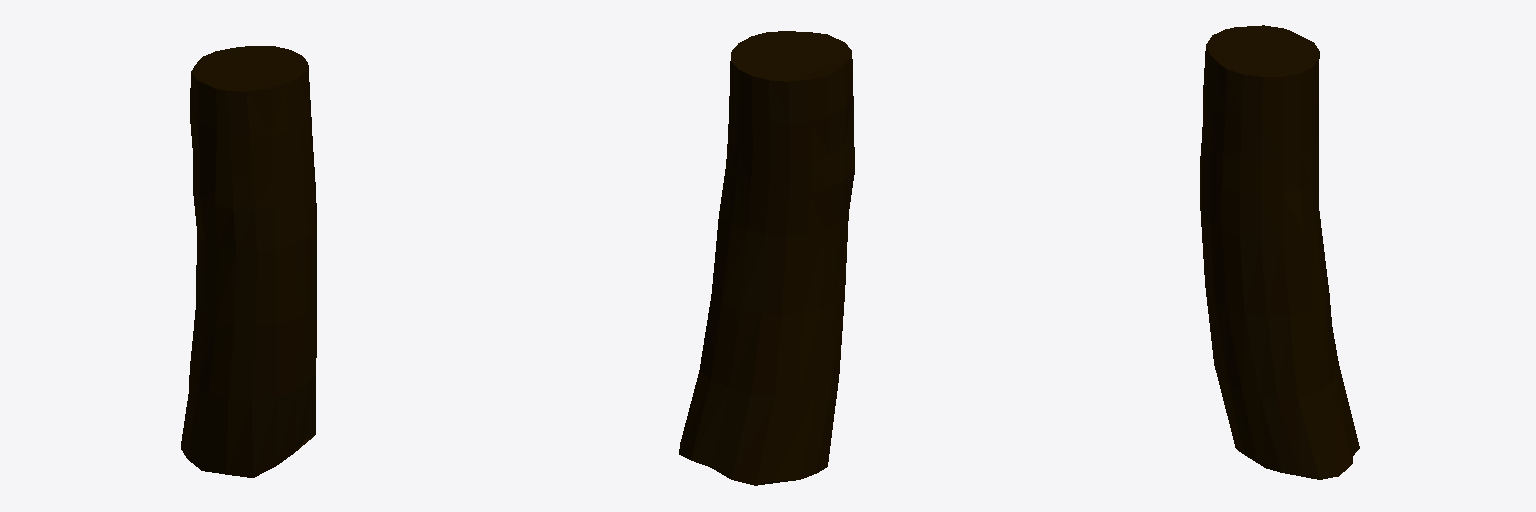
Rendered from log.obj.
3 views of the same model, side by side, from view 1: azimuth 30°, elevation 25°; view 2: azimuth 150°, elevation 25°; view 3: azimuth 270°, elevation 25° (orthographic).
Visible parts, largest first — view 1: transform1; view 2: transform1; view 3: transform1.
Boxes of the visible parts, box(x1,y1,x2,y2) form: transform1: box(181, 46, 316, 477); transform1: box(679, 31, 854, 485); transform1: box(1200, 25, 1359, 479).
Bounding box in the file's own units: 13.78 × 38.58 × 14.01.